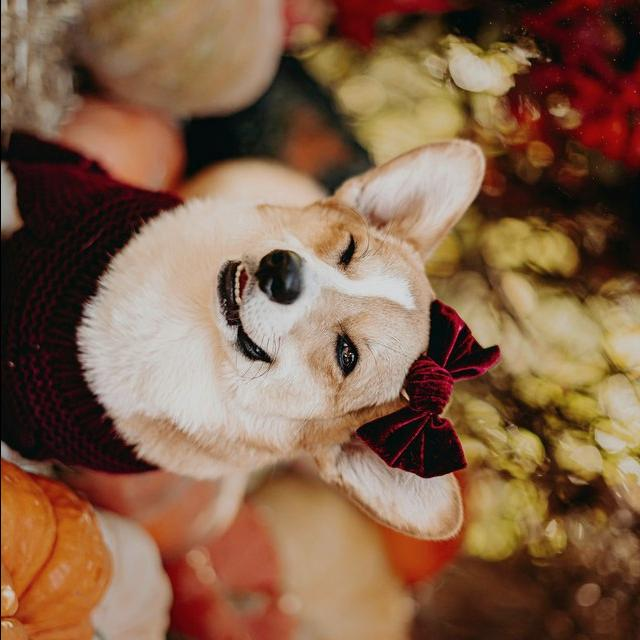corgi: (0, 129, 487, 545)
